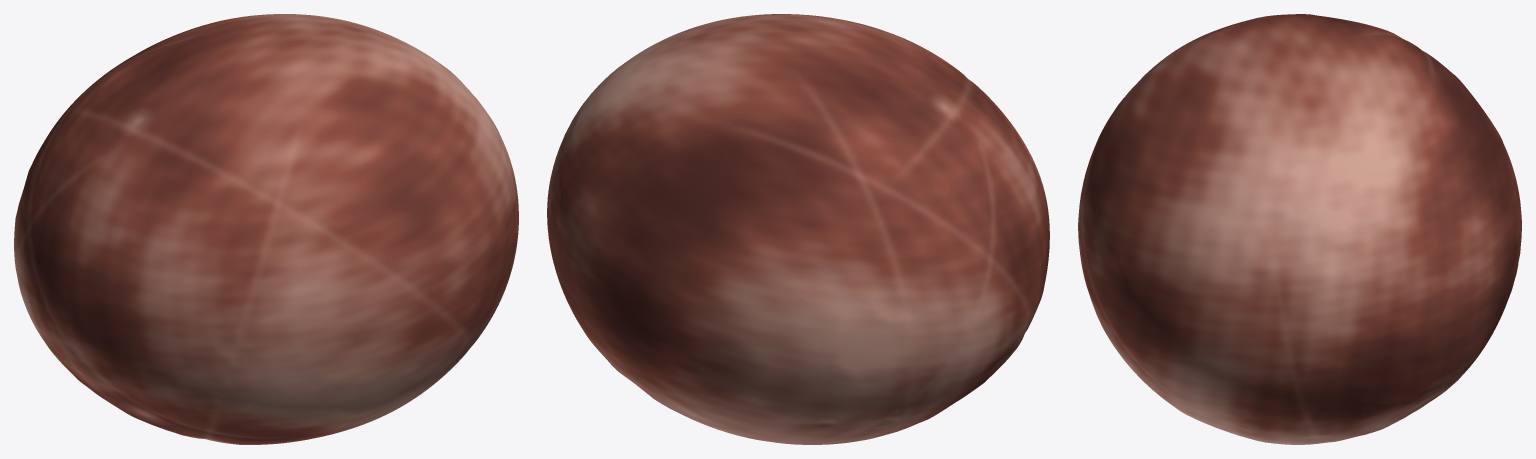
Rendered from kbo_template.glb.
3 renders of one model, left to right at view 1: azimuth 30°, elevation 25°; view 2: azimuth 150°, elevation 25°; view 3: azimuth 270°, elevation 25°, orthographic. The views are drawn at different scales.
Visible parts, largest first — view 1: kbo_template_body; view 2: kbo_template_body; view 3: kbo_template_body.
Boxes of the visible parts, x1=… form: kbo_template_body: x1=14, y1=14, x2=518, y2=444; kbo_template_body: x1=547, y1=14, x2=1049, y2=444; kbo_template_body: x1=1078, y1=14, x2=1521, y2=444.
Size of the model in its own units: 2.2 by 1.79 by 1.93.
1 material, 1 textured.
